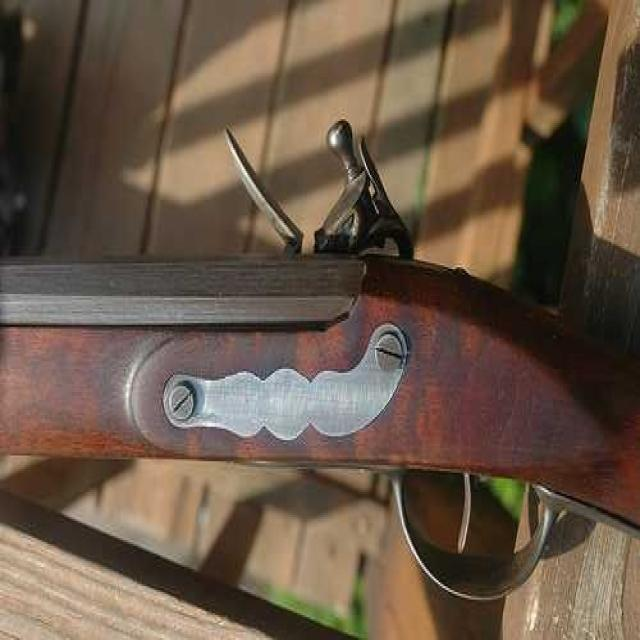heavyweapon: (1, 133, 640, 640)
